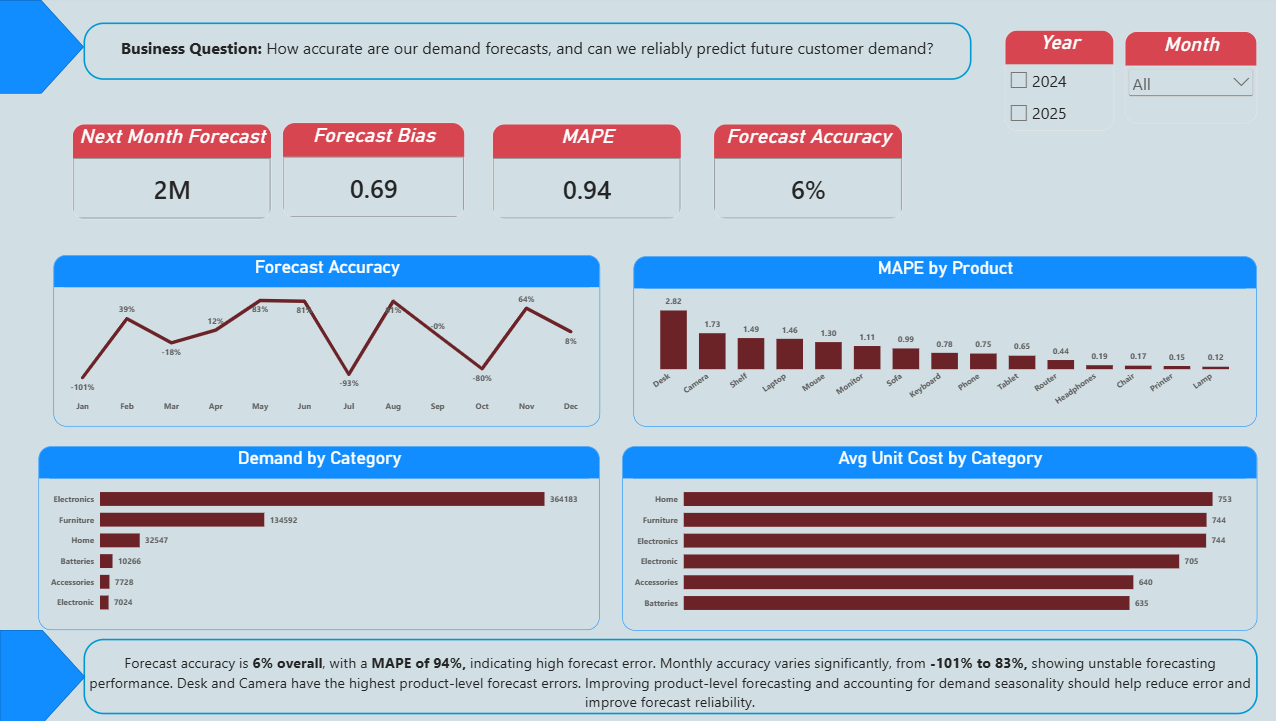

The page's visual inventory and layout, read from the dashboard file:
{"tool":"powerbi","page":{"name":"Demand Forecasting","canvas":[1920,1080],"ordinal":2},"visuals":[{"type":"shape","box":[10.3,0,127.6,140],"z":0},{"type":"textbox","box":[138.5,34.1,1325.8,85.3],"z":1000},{"type":"cardVisual","title":"Next Month Forecast","fields":{"Data":["All Measures.Next Month Forecast"]},"box":[120.6,184.7,297.8,143.2],"z":2000},{"type":"textbox","box":[137.5,967.5,1752.5,112.5],"z":3000},{"type":"shape","box":[12.5,940,127.6,140],"z":4000},{"type":"cardVisual","title":"Forecast Bias","fields":{"Data":["All Measures.Forecast Bias %"]},"box":[434.8,183.3,272.5,142.5],"z":5000},{"type":"cardVisual","title":"MAPE","fields":{"Data":["All Measures.MAPE"]},"box":[748.1,185.4,282.5,142.5],"z":6000},{"type":"cardVisual","title":"Forecast Accuracy","fields":{"Data":["All Measures.Forecast Accuracy"]},"box":[1078.5,185.4,282.5,142.5],"z":7000},{"type":"lineChart","title":"Forecast Accuracy","fields":{"Category":["Date.Month"],"Y":["All Measures.Forecast Accuracy"]},"box":[94,380,816,256],"z":8000},{"type":"clusteredColumnChart","title":"MAPE by Product","fields":{"Category":["SupplyChain_Data.ProductName"],"Y":["All Measures.MAPE"]},"box":[960,382,930,254],"z":9000},{"type":"barChart","title":"Demand by Category","fields":{"Category":["SupplyChain_Data.Category"],"Y":["All Measures.Total Demand"]},"box":[70.9,666.1,837.8,274.3],"z":10000},{"type":"slicer","title":"Year","fields":{"Values":["Date.Year"]},"box":[1513.3,44.8,163,150],"z":12000},{"type":"slicer","title":"Month","fields":{"Values":["Date.Month"]},"box":[1692.4,46.6,197.6,137.9],"z":13000},{"type":"barChart","title":"Avg Unit Cost by Category","fields":{"Category":["SupplyChain_Data.Category"],"Y":["All Measures.Avg Unit Cost"]},"box":[942.3,665.3,947.9,275.1],"z":13001}]}

Visuals, with their boxes in screenshot pixels (x1, y1, x2, y2), scaled from the page's 1920x1080 canvas onto the 1276x721 screenshot:
shape: 7,0,92,93
textbox: 92,23,973,80
"Next Month Forecast" cardVisual: 80,123,278,219
textbox: 91,646,1256,720
shape: 8,628,93,720
"Forecast Bias" cardVisual: 289,122,470,218
"MAPE" cardVisual: 497,124,685,219
"Forecast Accuracy" cardVisual: 717,124,904,219
"Forecast Accuracy" lineChart: 62,254,605,425
"MAPE by Product" clusteredColumnChart: 638,255,1256,425
"Demand by Category" barChart: 47,445,604,628
"Year" slicer: 1006,30,1114,130
"Month" slicer: 1125,31,1256,123
"Avg Unit Cost by Category" barChart: 626,444,1256,628
